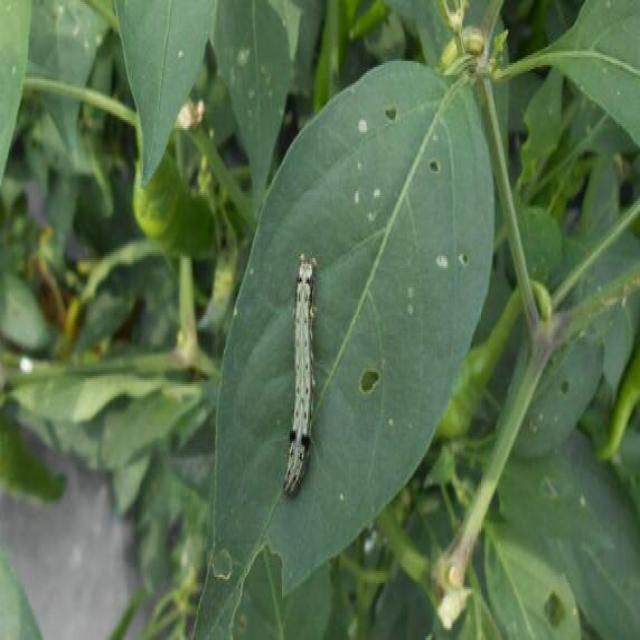BeetArmyWorm-Larva-: (280, 238, 330, 503)
